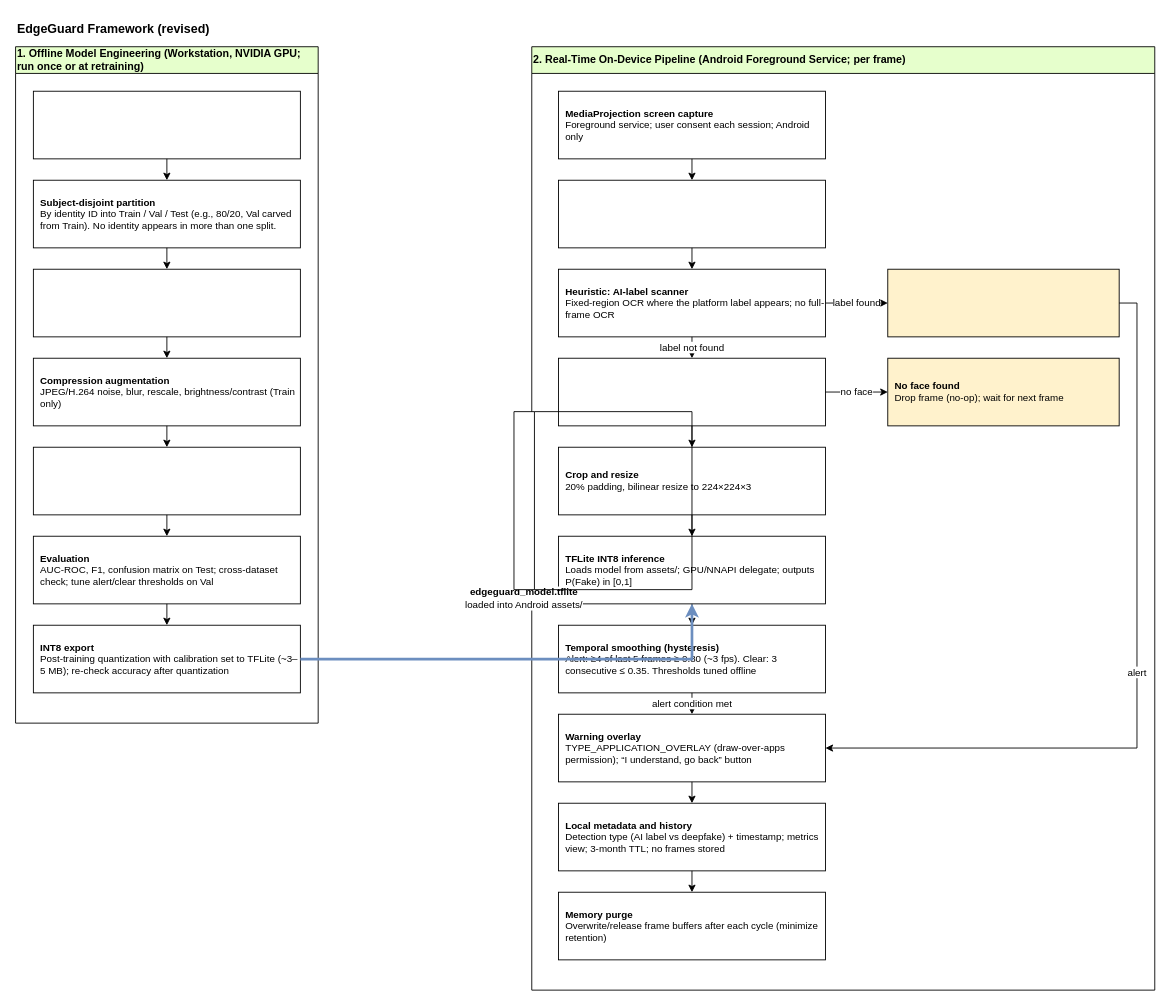
Some shapes in this 1170 by 1006 pixel diagram are drawn without their labels. The shapes that lost their labels are listed below. From the top down, each one's box as (x1, y1, x2, y2) in pixels, then its label:
(32, 90, 300, 159): Datasets Celeb-DF v2 · FF++
(558, 179, 825, 248): Downscaled frame buffer Direct ByteBuffer; frames held in RAM only
(32, 268, 300, 337): Frame extraction + alignment 3–5 fps; BlazeFace alignment
(887, 268, 1119, 337): Label found Instant high-risk alert; skip face crop and TFLite this cycle
(558, 357, 825, 426): Face detection BlazeFace / MediaPipe on the frame
(32, 446, 300, 515): MobileNetV3 fine-tuning Binary cross-entropy; early stopping on Val
(513, 411, 692, 590): Horizontal Container
